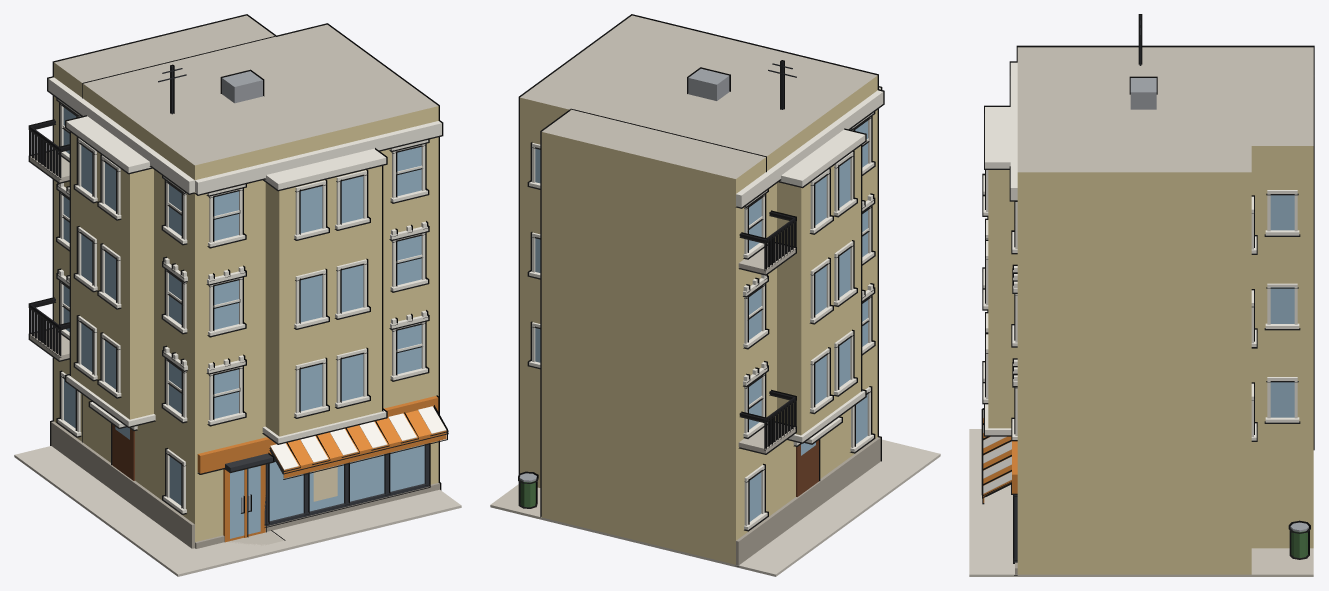
The model's file is Blok_kose_4k_4.fbx.
3 renders of one model, left to right at view 1: azimuth 30°, elevation 25°; view 2: azimuth 150°, elevation 25°; view 3: azimuth 270°, elevation 25°, orthographic. The views are drawn at different scales.
Parts seen in each view (by area): view 1: Blok_kose_4k_4; view 2: Blok_kose_4k_4; view 3: Blok_kose_4k_4.
Boxes of the visible parts, x1,y1,x2,y2 form: Blok_kose_4k_4: (14,14,461,576); Blok_kose_4k_4: (490,14,940,576); Blok_kose_4k_4: (969,14,1314,576).
Size of the model in its own units: 10.03 by 14.68 by 10.03.
